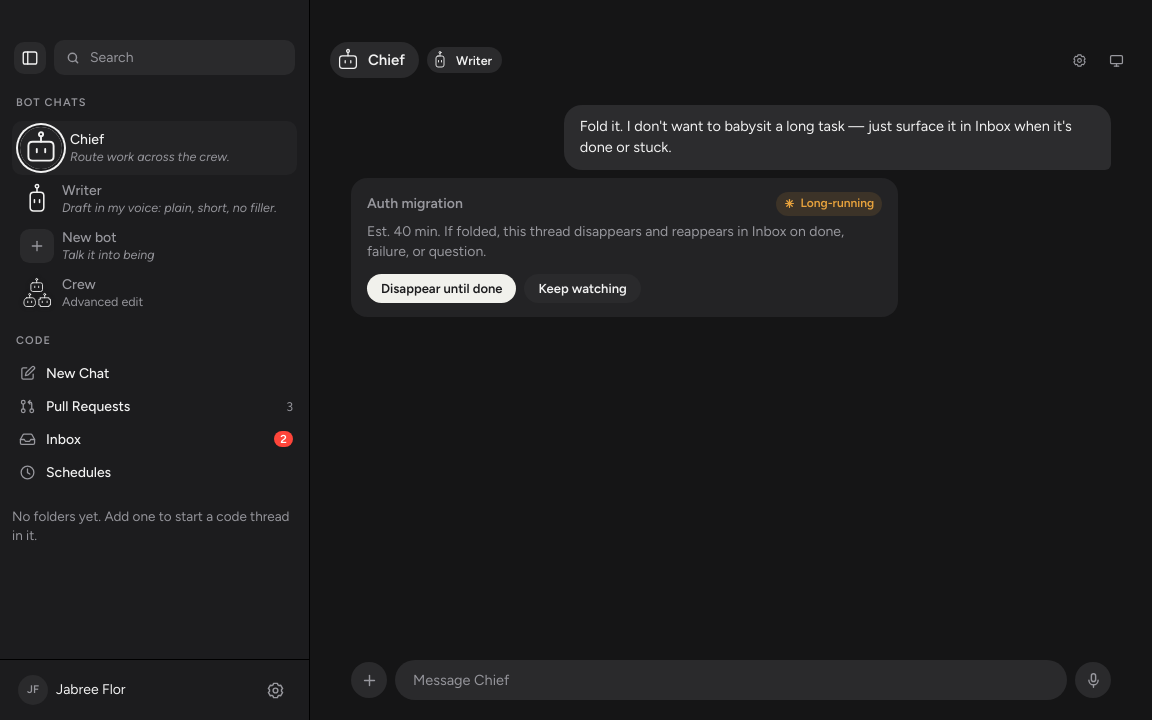
App, once the host has answered with a crew › draws the host's crew instead of the fixtures
(page scrolled)
Check: the button named "Settings" is shown, box 259,674 -> 291,706
Click the button "Crew Advanced edit" at [79, 285], box 12,270 -> 297,316
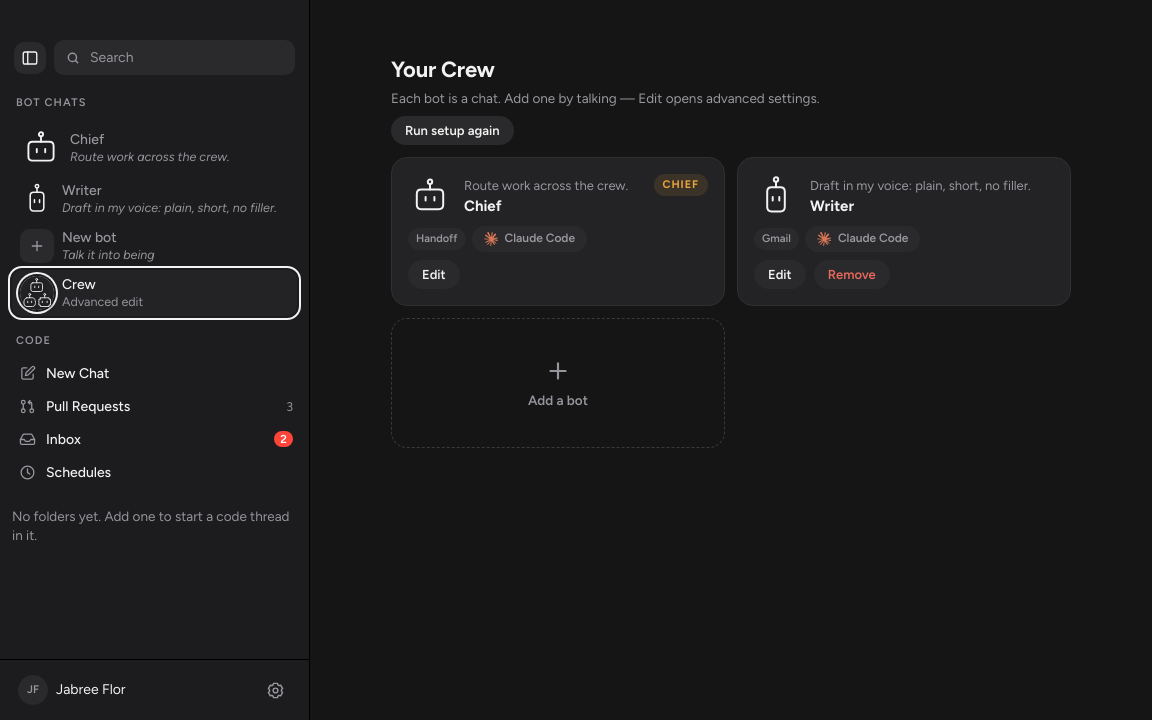
Check: the text "Writer" is shown, box 810,196 -> 854,214
Check: the text "CHIEF" is shown, box 654,174 -> 708,196
Check: the text "Handoff" is shown, box 408,228 -> 466,250
